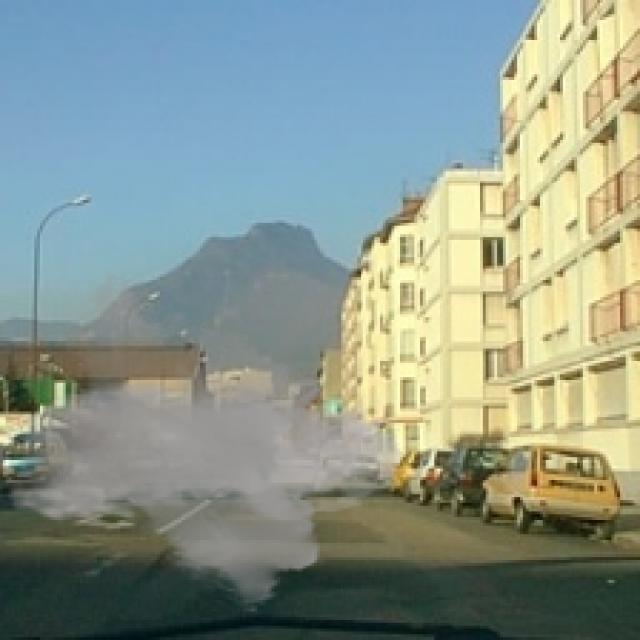Smoke: (6, 272, 403, 614)
